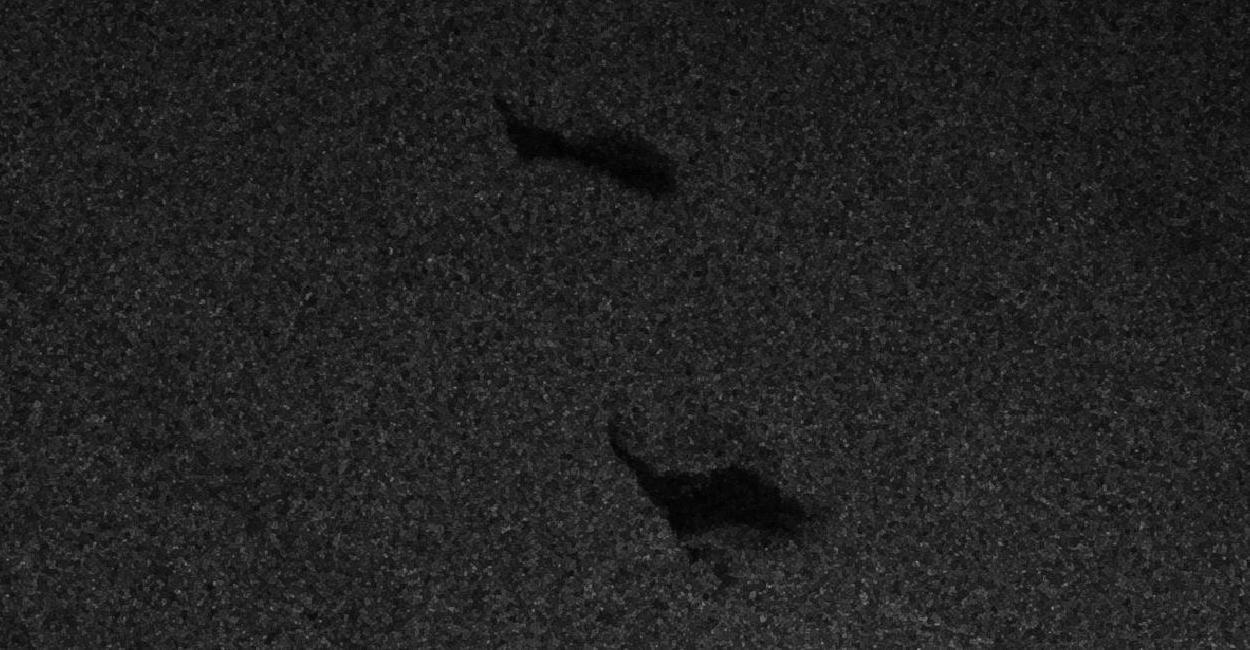Oil Spill: (602, 416, 824, 610), (503, 112, 678, 204)
